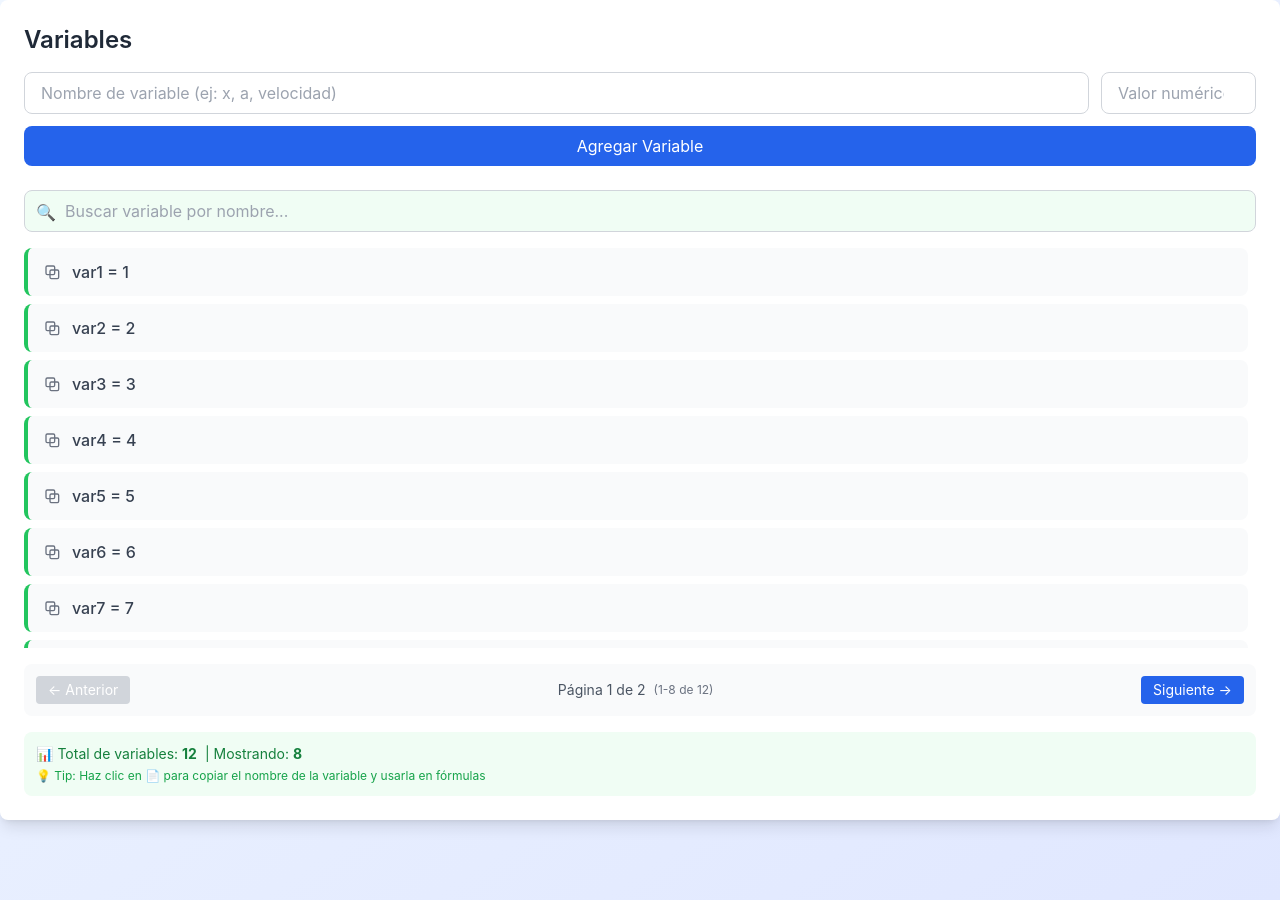
Test: permite navegar entre páginas de variables
This screenshot has width=1280, height=900.
Click the button "Siguiente →": (1192, 690) 1141,676 -> 1244,704
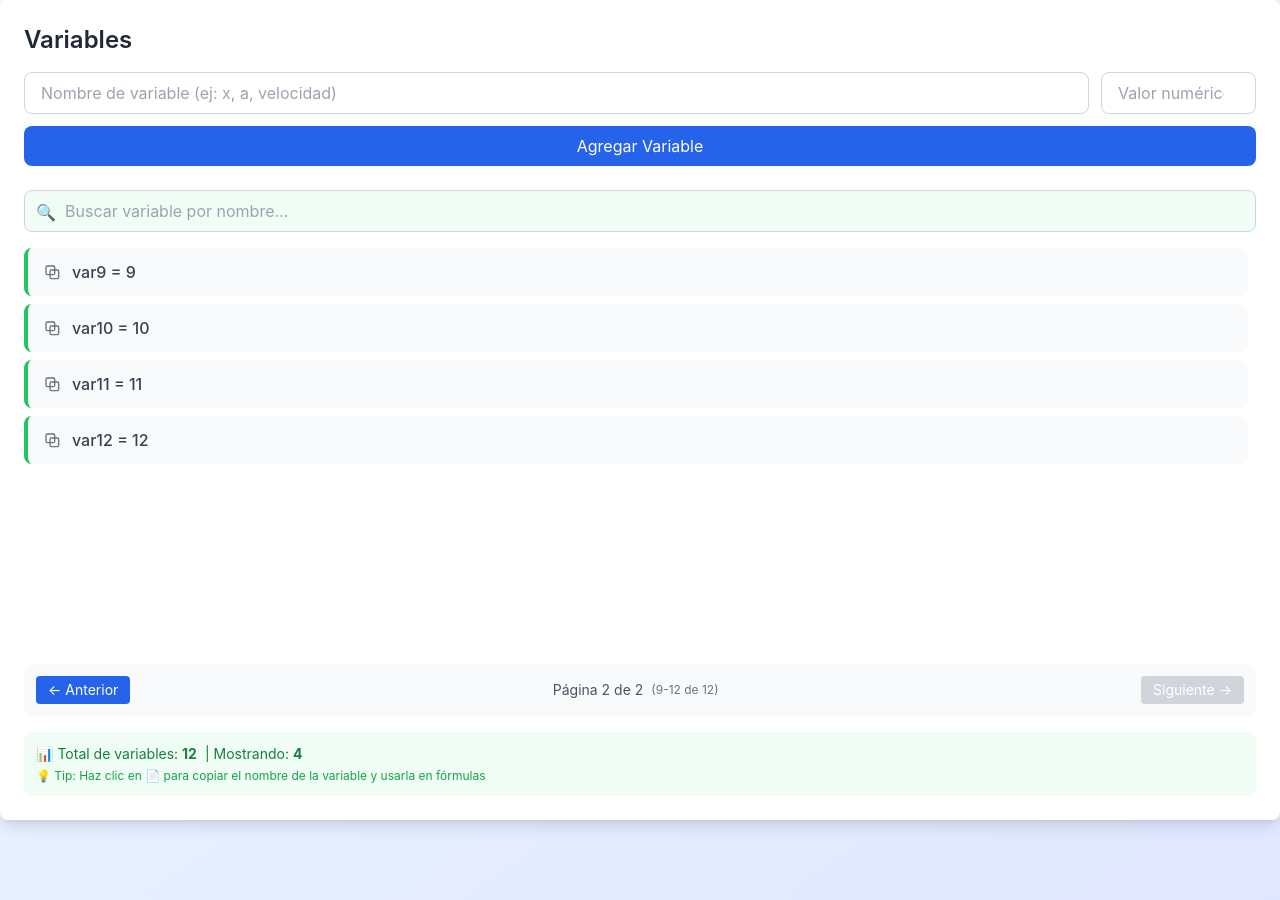
Expected: the text "var12 = 12" is shown, 72,428 -> 149,452
